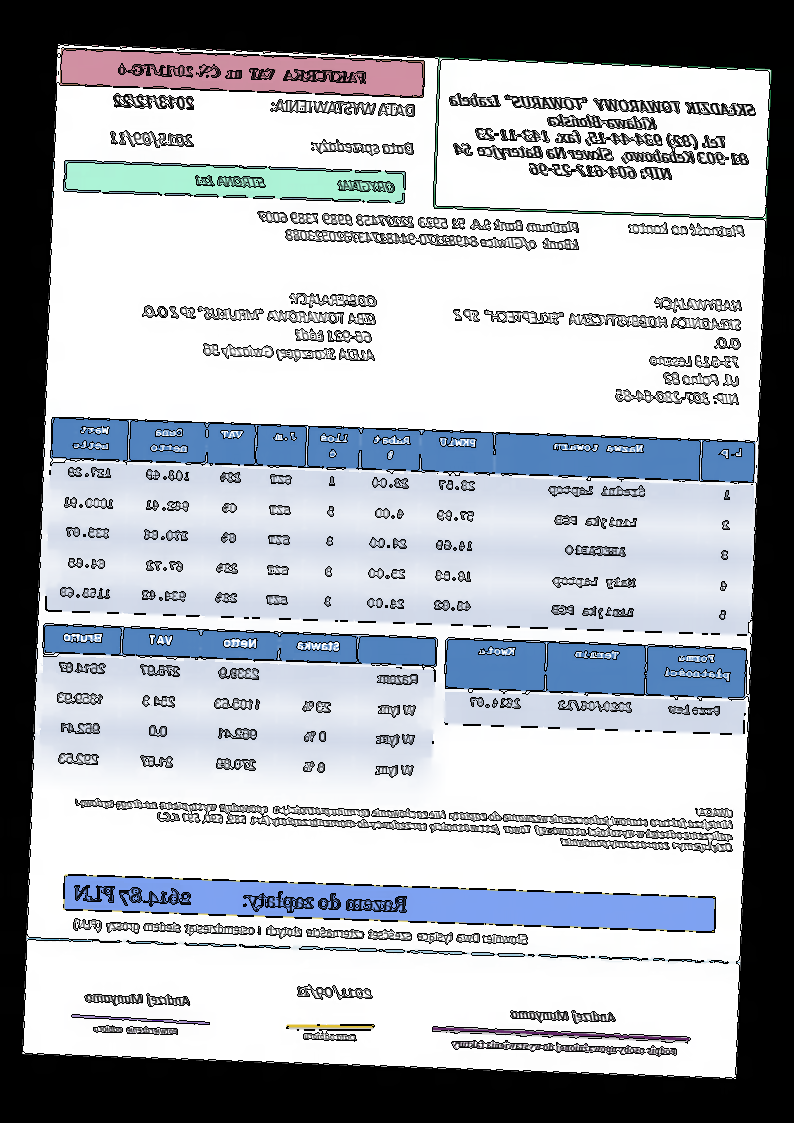Table: (44, 416, 758, 637), (36, 621, 439, 793), (442, 637, 749, 736)
TextBox: (69, 782, 736, 855), (447, 285, 746, 409), (442, 88, 759, 187), (138, 283, 379, 367), (71, 914, 531, 952), (255, 208, 583, 255), (72, 878, 410, 919), (117, 58, 371, 87), (193, 169, 398, 196), (450, 1037, 680, 1058), (271, 93, 419, 121), (627, 217, 747, 240), (309, 134, 417, 159), (505, 1005, 621, 1026), (108, 126, 197, 151), (83, 990, 193, 1010), (111, 90, 198, 114), (295, 981, 377, 1002), (93, 1021, 182, 1038), (301, 1028, 360, 1046)
